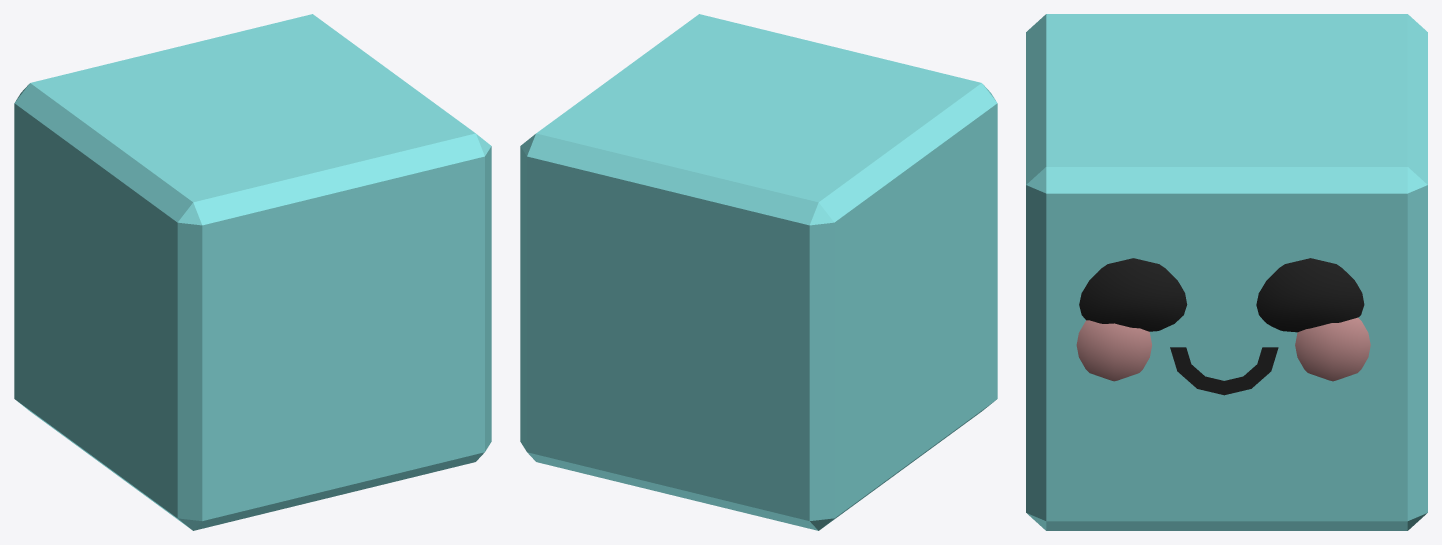
The model's file is cubey.fbx.
3 views of the same model, side by side, from view 1: azimuth 30°, elevation 25°; view 2: azimuth 150°, elevation 25°; view 3: azimuth 270°, elevation 25° (orthographic). The views are drawn at different scales.
Visible parts, largest first — view 1: CubeBase; view 2: CubeBase; view 3: CubeBase, CubeEyes, CubeBlush, CubeMouth.
Part boxes in pixels (left/top/right/bottom): CubeBase: left=14, top=14, right=491, bottom=530; CubeBase: left=520, top=14, right=997, bottom=530; CubeBase: left=1026, top=14, right=1427, bottom=530; CubeEyes: left=1079, top=258, right=1364, bottom=332; CubeBlush: left=1076, top=317, right=1370, bottom=381; CubeMouth: left=1170, top=347, right=1278, bottom=395.
Bounding box in the file's own units: 2.02 × 1.95 × 1.95.
